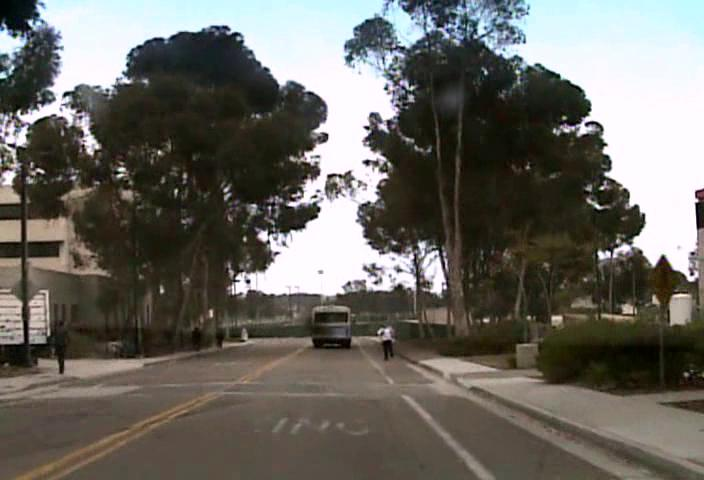pedestrianCrossing: (642, 252, 681, 304)
